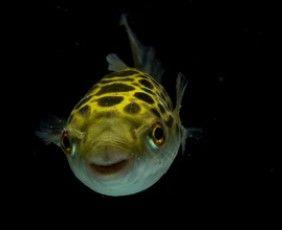Green Spotted Puffer: (35, 18, 195, 199)
